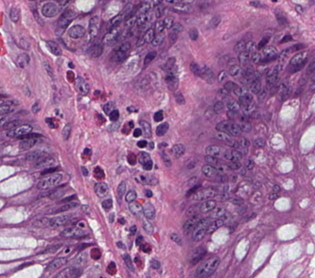nucleus: (32, 214, 72, 227), (56, 10, 74, 34), (192, 217, 210, 241), (37, 172, 61, 189), (216, 120, 240, 136), (289, 52, 307, 71), (216, 132, 237, 148), (50, 201, 78, 213), (136, 28, 155, 45), (183, 214, 200, 233), (192, 187, 216, 200), (87, 16, 99, 41), (266, 65, 281, 85), (260, 46, 277, 63), (165, 66, 177, 90), (60, 226, 85, 237), (205, 145, 226, 158), (102, 27, 119, 43), (34, 156, 55, 168), (206, 219, 224, 233), (169, 1, 191, 12), (41, 2, 57, 17), (75, 77, 89, 94), (237, 115, 251, 131), (68, 25, 85, 38), (202, 164, 219, 177), (136, 12, 151, 26), (46, 41, 61, 55), (88, 42, 102, 57), (25, 150, 46, 160), (223, 150, 242, 161), (200, 66, 213, 82), (139, 120, 151, 137), (198, 200, 215, 212), (135, 175, 157, 184), (94, 182, 108, 196), (129, 201, 142, 216), (43, 62, 54, 79), (161, 57, 174, 71), (238, 93, 252, 106), (112, 49, 127, 61), (142, 203, 154, 218), (210, 207, 226, 218), (47, 188, 64, 198), (235, 137, 249, 149), (32, 8, 42, 24), (138, 1, 150, 14), (151, 33, 164, 45), (238, 51, 250, 64), (226, 99, 239, 111), (243, 101, 255, 114), (156, 122, 168, 135), (172, 144, 184, 157), (205, 155, 219, 166), (115, 42, 130, 52), (250, 78, 260, 93), (208, 16, 220, 28), (229, 64, 241, 76), (280, 84, 289, 100), (62, 123, 71, 139), (138, 152, 150, 164), (169, 232, 181, 244), (244, 41, 255, 54), (144, 51, 155, 64), (142, 220, 153, 233), (233, 86, 247, 96), (161, 151, 170, 166), (256, 37, 268, 48), (234, 40, 245, 52), (125, 190, 136, 202), (186, 205, 198, 216), (154, 20, 164, 33), (190, 62, 200, 75), (224, 81, 237, 91), (155, 3, 164, 17), (103, 102, 114, 113), (213, 101, 223, 113), (94, 166, 104, 178), (117, 181, 125, 196), (102, 198, 112, 210), (41, 167, 57, 174), (215, 192, 229, 200), (163, 17, 173, 28), (171, 23, 182, 33), (175, 92, 184, 104), (109, 109, 118, 121), (186, 186, 198, 195), (59, 195, 74, 202), (251, 52, 261, 62), (46, 118, 57, 127), (253, 138, 264, 147), (127, 153, 136, 164), (189, 28, 197, 40), (169, 32, 177, 44), (279, 35, 291, 43), (218, 87, 228, 96), (244, 159, 253, 169), (228, 162, 240, 169), (277, 14, 286, 23), (143, 160, 152, 169), (218, 71, 226, 81), (154, 111, 162, 121), (32, 101, 39, 112), (83, 148, 90, 159), (227, 111, 237, 118), (250, 1, 261, 7), (133, 128, 141, 136), (259, 90, 266, 99), (137, 140, 146, 147), (269, 192, 278, 199), (308, 60, 313, 72), (67, 71, 73, 81), (232, 198, 242, 204), (295, 5, 303, 12), (122, 125, 129, 133), (81, 167, 88, 175), (116, 241, 124, 248), (57, 0, 68, 5), (136, 236, 142, 245), (127, 106, 137, 111), (272, 185, 279, 192), (145, 189, 151, 196), (130, 226, 135, 233), (109, 214, 113, 222), (118, 218, 124, 223), (150, 142, 153, 148)
